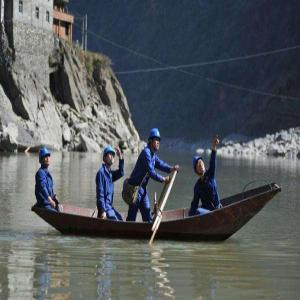blue: (148, 128, 162, 153), (103, 147, 117, 169), (39, 148, 52, 171), (194, 154, 206, 177)
